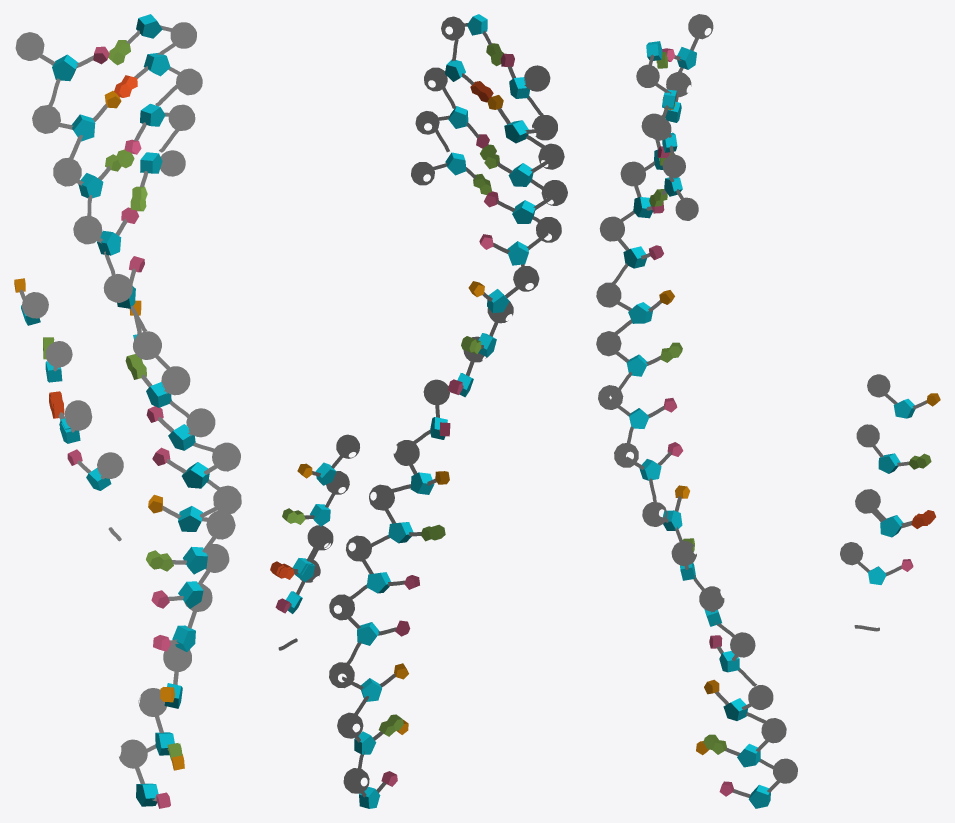
File: DNA Molecule.glb
The picture shows the model from 3 angles, left to right: view 1: azimuth 30°, elevation 25°; view 2: azimuth 150°, elevation 25°; view 3: azimuth 270°, elevation 25°; orthographic projection. The views are drawn at different scales.
Parts seen in each view (by area): view 1: group842096691, group379371731, group537082988, group1284950823, group2009437433, group1545786163, group1916166101, group619526358, group554757527, group1320838876, group324626012, group189286047 (+24 smaller); view 2: group537082988, group379371731, group842096691, group1545786163, group1284950823, group619526358, group300374977, group2009437433, group1563845968; view 3: group1545786163, group300374977, group619526358, group537082988, group2009437433, group842096691, group1284950823, group379371731.
Boxes of the visible parts, bbox=[...] form: group842096691: bbox=[108, 14, 196, 65]; group379371731: bbox=[114, 52, 202, 97]; group537082988: bbox=[130, 150, 185, 211]; group1284950823: bbox=[124, 103, 195, 154]; group2009437433: bbox=[67, 449, 123, 490]; group1545786163: bbox=[43, 337, 72, 382]; group1916166101: bbox=[49, 396, 92, 443]; group619526358: bbox=[14, 278, 48, 325]; group554757527: bbox=[161, 366, 190, 395]; group1320838876: bbox=[133, 331, 161, 359]; group324626012: bbox=[186, 408, 215, 437]; group189286047: bbox=[103, 274, 132, 302]; group537082988: bbox=[411, 152, 491, 194]; group379371731: bbox=[424, 59, 493, 102]; group842096691: bbox=[441, 14, 503, 66]; group1545786163: bbox=[282, 471, 349, 526]; group1284950823: bbox=[415, 106, 489, 148]; group619526358: bbox=[297, 434, 359, 485]; group300374977: bbox=[270, 525, 329, 580]; group2009437433: bbox=[275, 559, 320, 613]; group1563845968: bbox=[524, 65, 550, 91]; group1545786163: bbox=[856, 424, 931, 473]; group300374977: bbox=[859, 489, 935, 535]; group619526358: bbox=[867, 374, 940, 418]; group537082988: bbox=[649, 177, 698, 220]; group2009437433: bbox=[840, 542, 913, 584]; group842096691: bbox=[636, 41, 667, 87]; group1284950823: bbox=[657, 132, 685, 177]; group379371731: bbox=[648, 89, 676, 140].
Size of the model in its own units: 0.0501 by 0.1866 by 0.0789.
